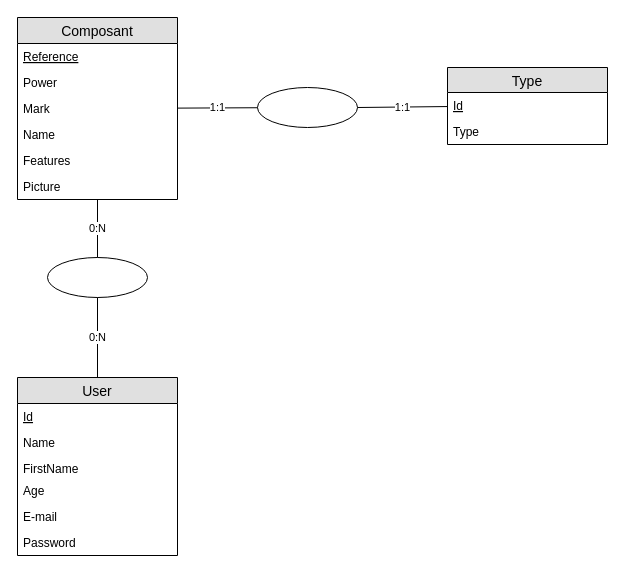
Image size: 625x576. Some labels were removed from this diagram. Each missing label, with the centre of its shape:
"Choose" belongs at (97,277).
"Matches" belongs at (307,107).
